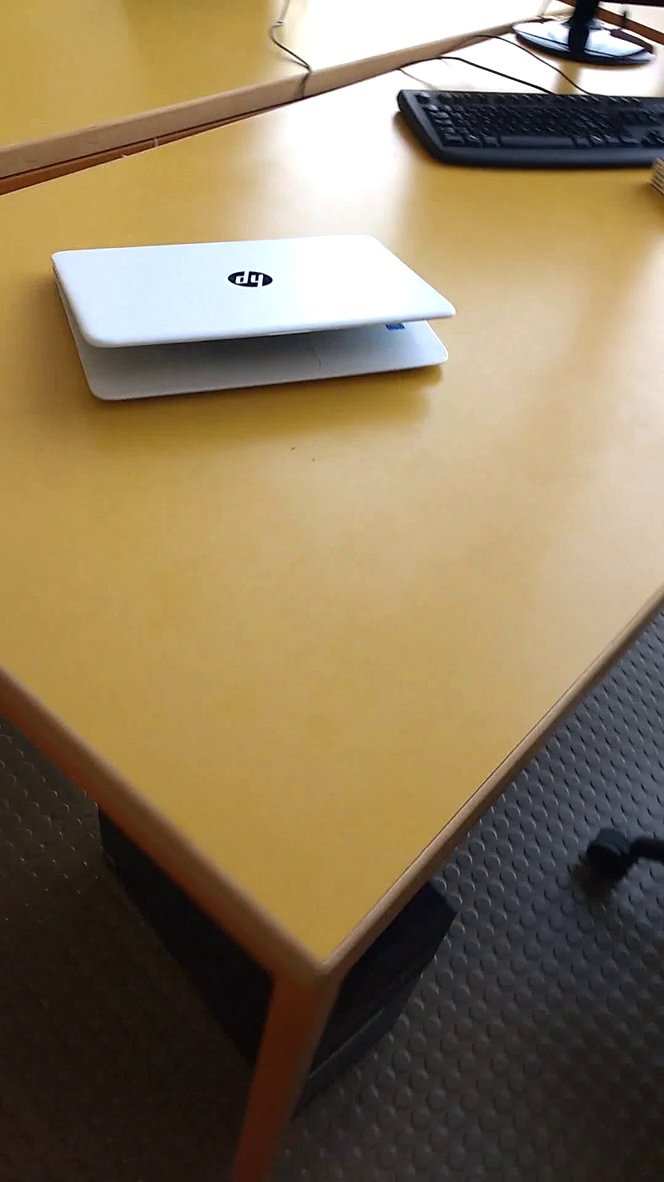laptop: (32, 203, 492, 433)
